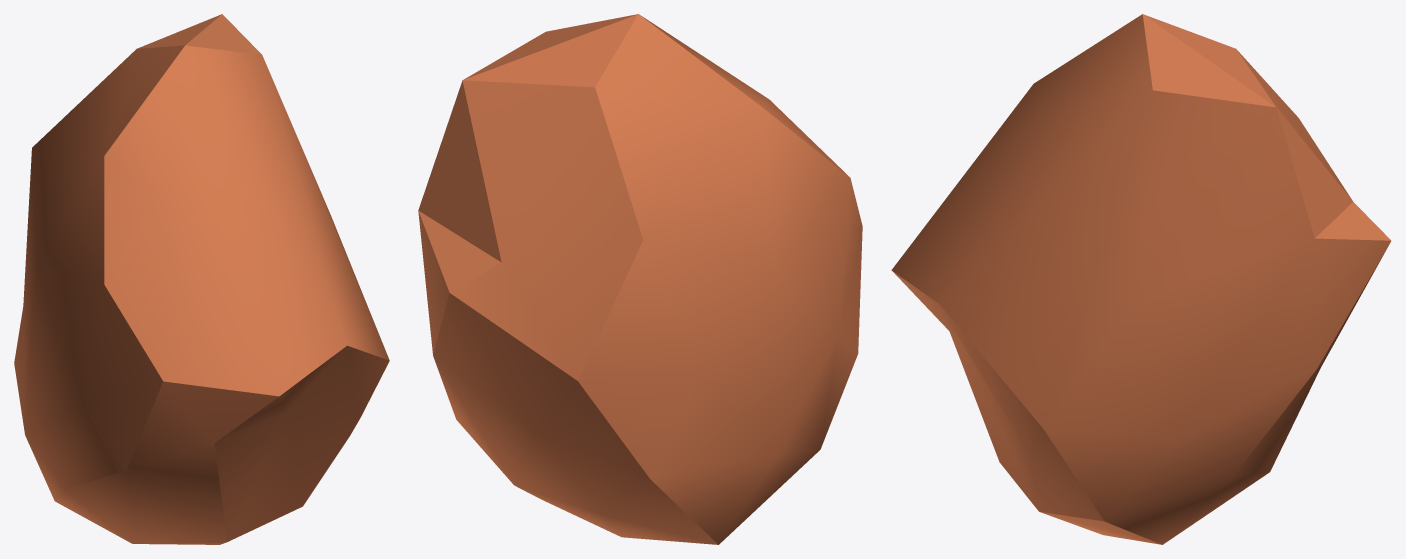
Rendered from Piedra2.fbx.
The picture shows the model from 3 angles, left to right: view 1: azimuth 30°, elevation 25°; view 2: azimuth 150°, elevation 25°; view 3: azimuth 270°, elevation 25°; orthographic projection. The views are drawn at different scales.
Visible parts, largest first — view 1: Piedra 2; view 2: Piedra 2; view 3: Piedra 2.
Boxes of the visible parts, box(x1,y1,x2,y2) form: Piedra 2: box(14, 14, 389, 544); Piedra 2: box(418, 14, 862, 544); Piedra 2: box(891, 14, 1391, 544).
Size of the model in its own units: 622 by 952 by 841.
